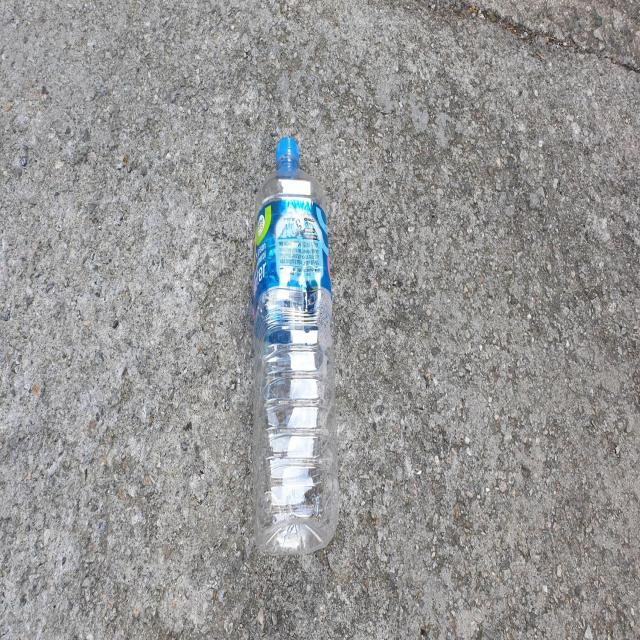plastic: (252, 136, 340, 555)
